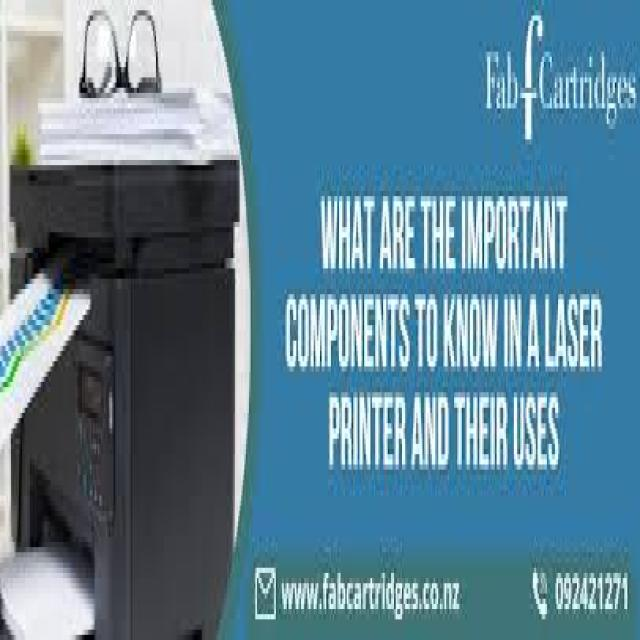printer: (0, 0, 241, 635)
